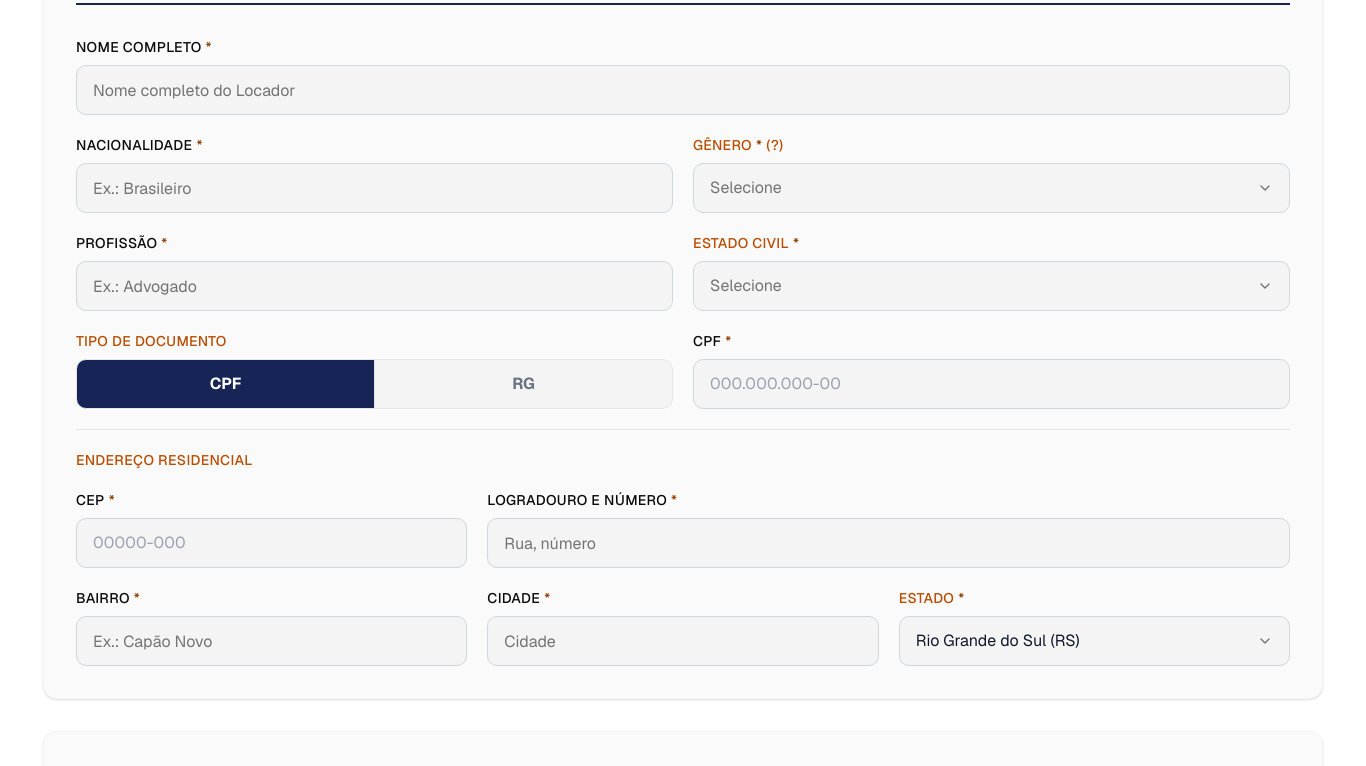
Test: RentalForm › should display RG input field when user interacts with toggle component
(page scrolled)
Click the radio button with aria-label "toggle RG" at {"x": 524, "y": 384}, box [375,359,673,409]
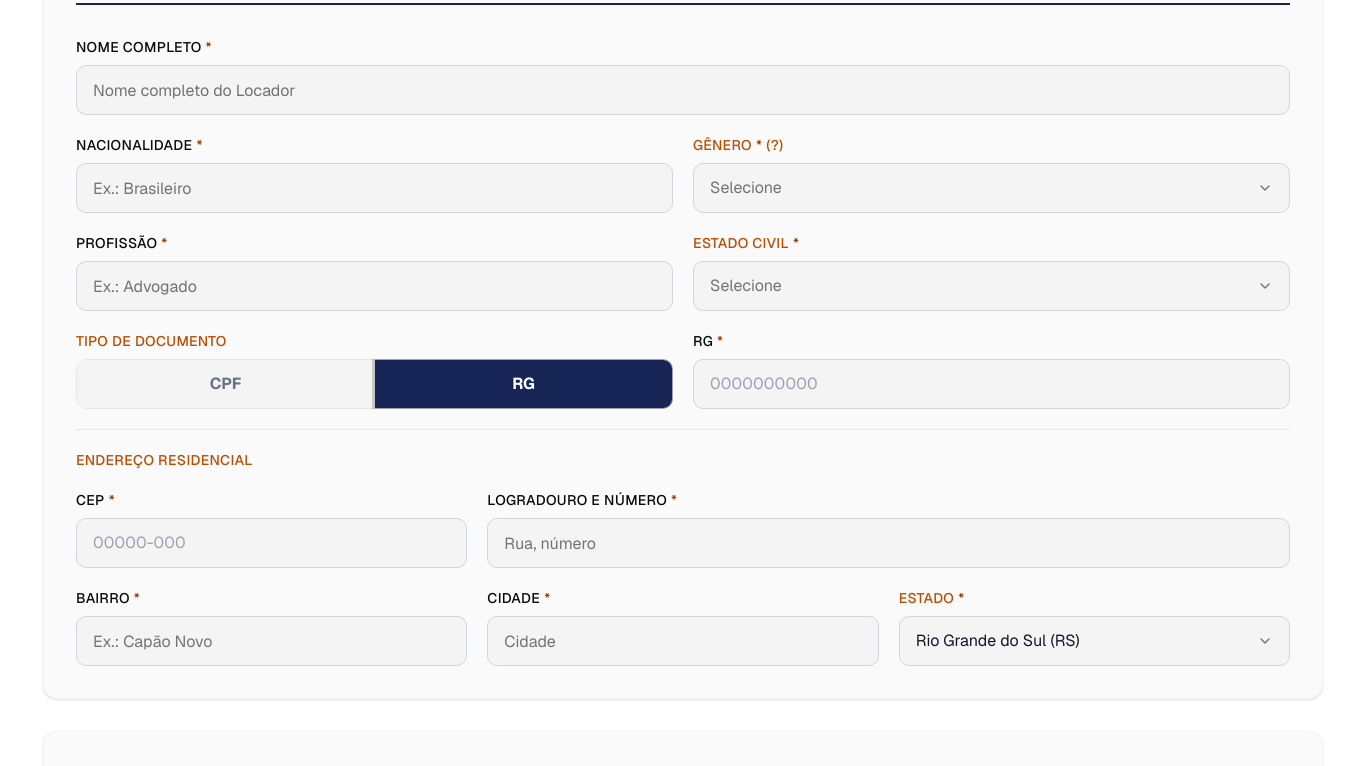
expect the field with placeholder "0000000000" is shown: met, box [693,359,1290,409]
